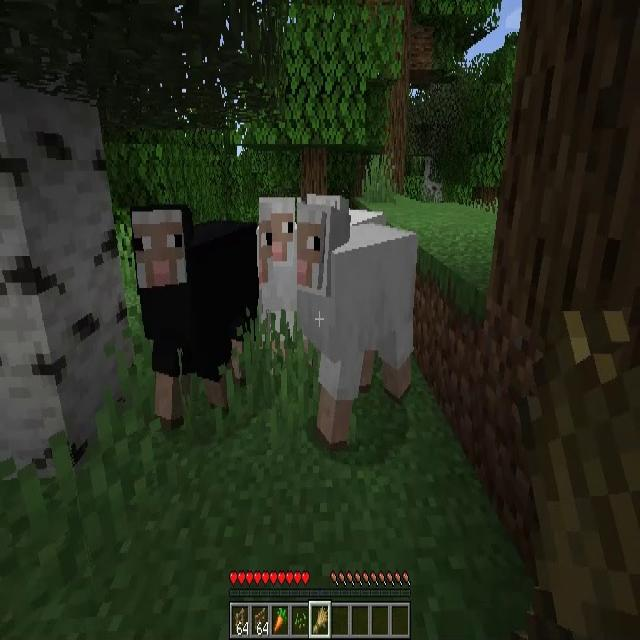sheep: (286, 205, 421, 436), (129, 206, 259, 428), (260, 194, 298, 349)
